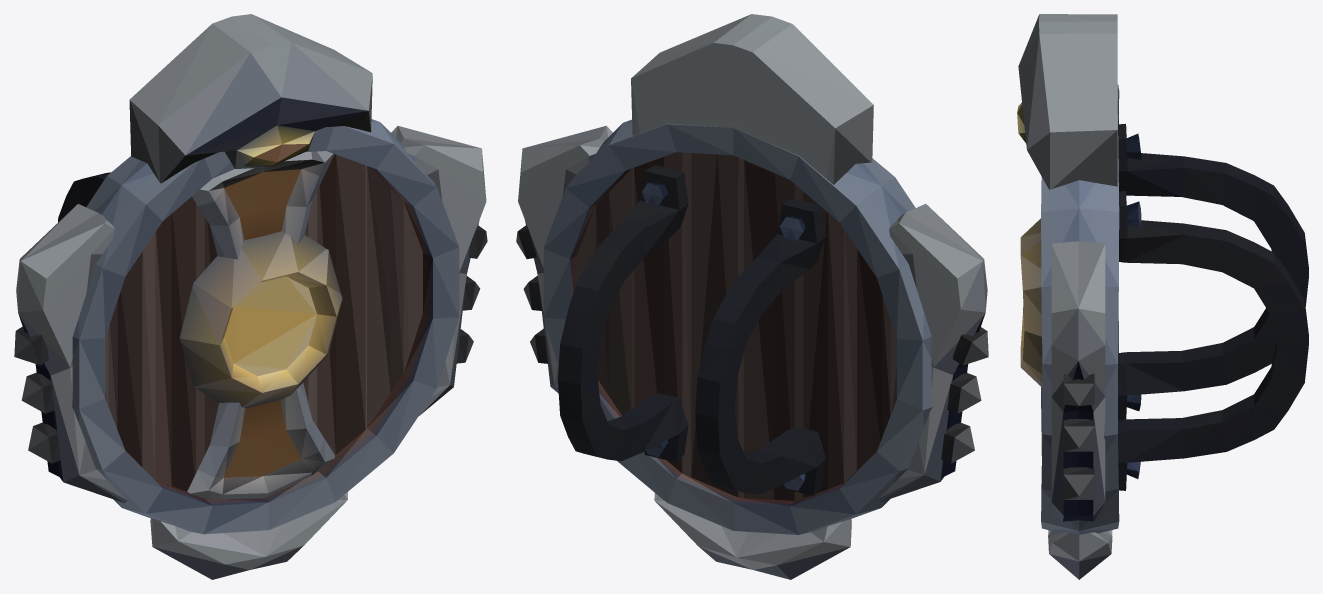
File: weapon_shield_silver_3.fbx
3 renders of one model, left to right at view 1: azimuth 30°, elevation 25°; view 2: azimuth 150°, elevation 25°; view 3: azimuth 270°, elevation 25°, orthographic.
Parts seen in each view (by area): view 1: weapon_shield_silver_3; view 2: weapon_shield_silver_3; view 3: weapon_shield_silver_3.
Part boxes in pixels (<box>): weapon_shield_silver_3: <box>14,14,487,579</box>; weapon_shield_silver_3: <box>516,14,988,579</box>; weapon_shield_silver_3: <box>1017,14,1308,579</box>.
Bounding box in the file's own units: 0.8146 × 0.8882 × 0.4345.
